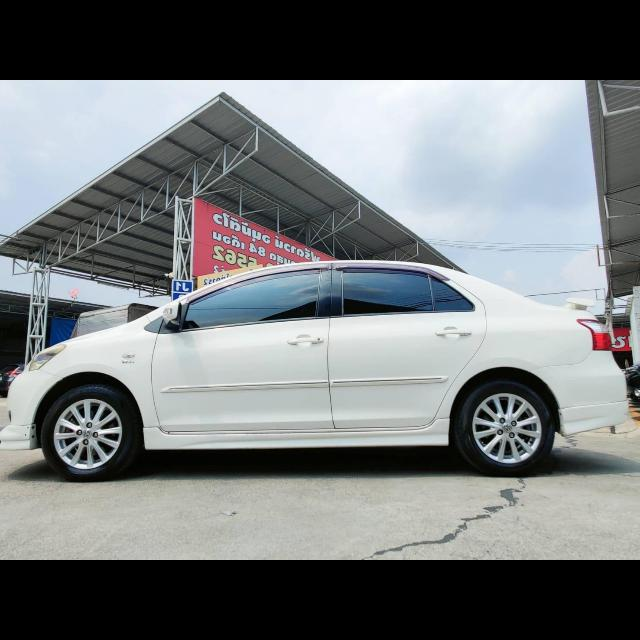cars: (1, 251, 632, 491)
